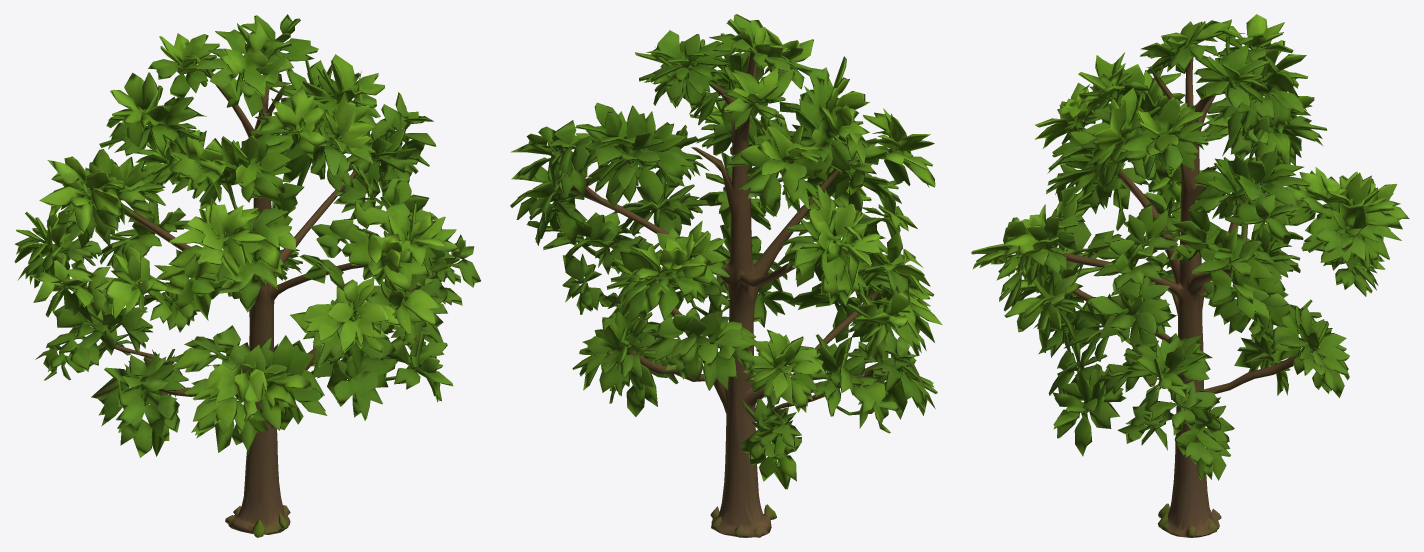
Rendered from tree_linden.glb.
The picture shows the model from 3 angles, left to right: view 1: azimuth 30°, elevation 25°; view 2: azimuth 150°, elevation 25°; view 3: azimuth 270°, elevation 25°; orthographic projection. The views are drawn at different scales.
Visible parts, largest first — view 1: tripo_node_fe798e2b-b391-4b19-b365-84dfedec2e71; view 2: tripo_node_fe798e2b-b391-4b19-b365-84dfedec2e71; view 3: tripo_node_fe798e2b-b391-4b19-b365-84dfedec2e71.
Boxes of the visible parts, x1=… form: tripo_node_fe798e2b-b391-4b19-b365-84dfedec2e71: x1=14, y1=14, x2=480, y2=537; tripo_node_fe798e2b-b391-4b19-b365-84dfedec2e71: x1=510, y1=14, x2=942, y2=537; tripo_node_fe798e2b-b391-4b19-b365-84dfedec2e71: x1=971, y1=14, x2=1409, y2=537.
Size of the model in its own units: 4.26 by 5 by 3.92.
1 material, 1 textured.
